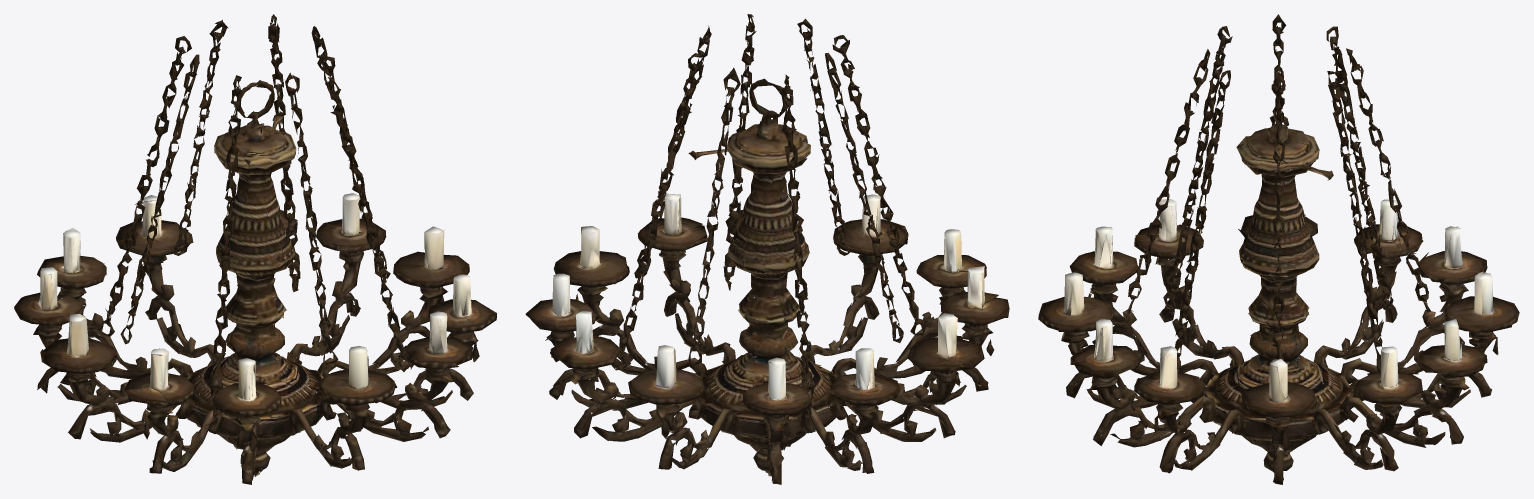
The model's file is chandelier_dec.glb.
3 views of the same model, side by side, from view 1: azimuth 30°, elevation 25°; view 2: azimuth 150°, elevation 25°; view 3: azimuth 270°, elevation 25° (orthographic).
Visible parts, largest first — view 1: Mesh_0.004; view 2: Mesh_0.004; view 3: Mesh_0.004.
Part boxes in pixels (x1,y1,x2,y2): Mesh_0.004: [14, 14, 496, 484]; Mesh_0.004: [525, 14, 1009, 484]; Mesh_0.004: [1038, 14, 1519, 484].
Bounding box in the file's own units: 1.91 × 1.91 × 1.91.
1 material, 1 textured.
